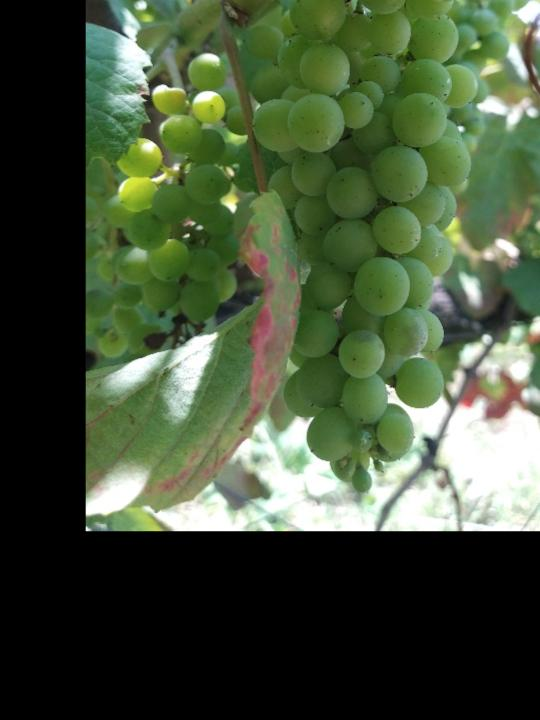grape: (237, 0, 487, 499)
